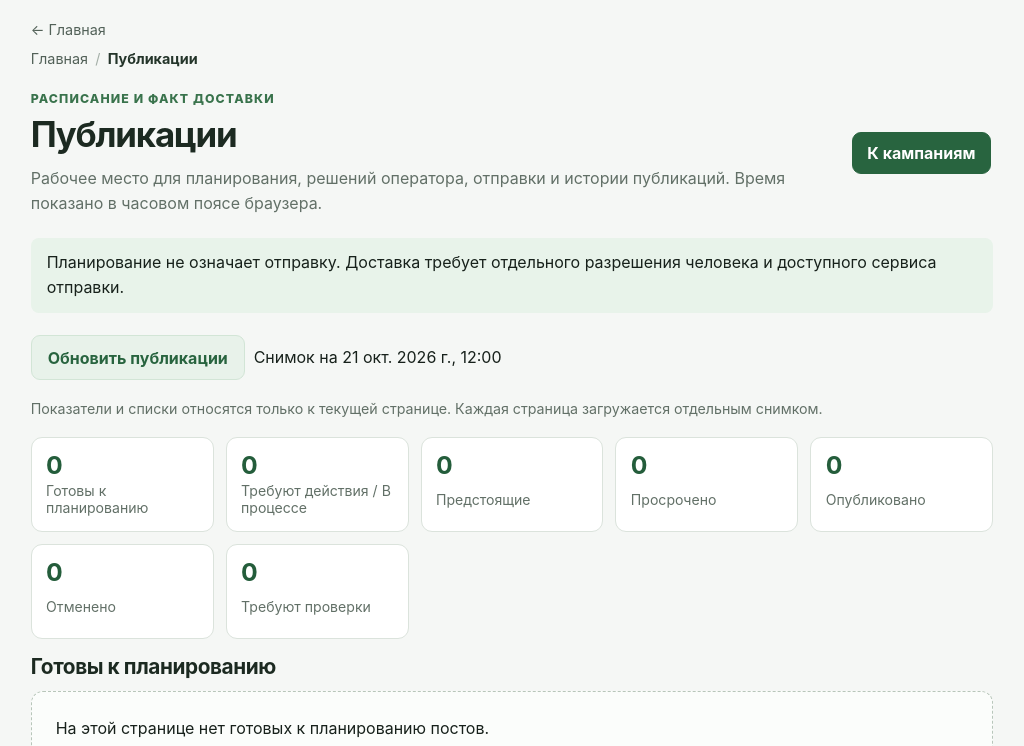
Test: snapshot failures and pagination › keeps a failed refresh as one visibly stale snapshot and disables mutations
Step 1. Click the button "Обновить публикации" → (138, 358), box [31,335,245,380]
(page scrolled)
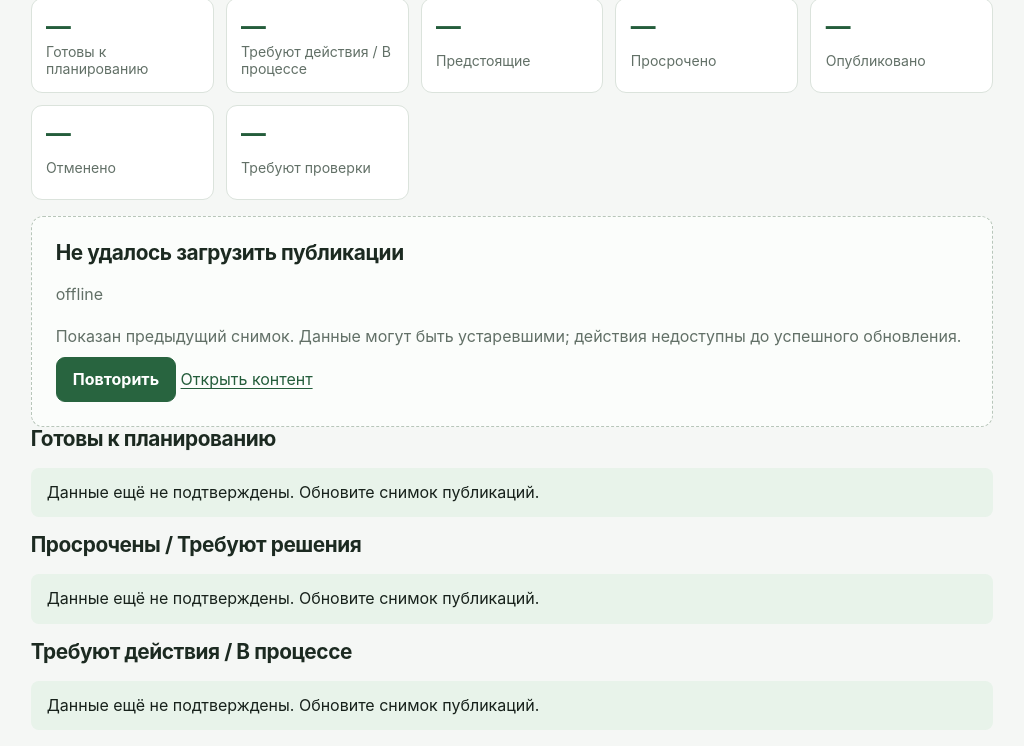
Now the message shows "Показан предыдущий снимок", box [56,326,961,346]
Step 2. Click the button "Повторить" → (116, 380), box [56,357,176,402]
(page scrolled)
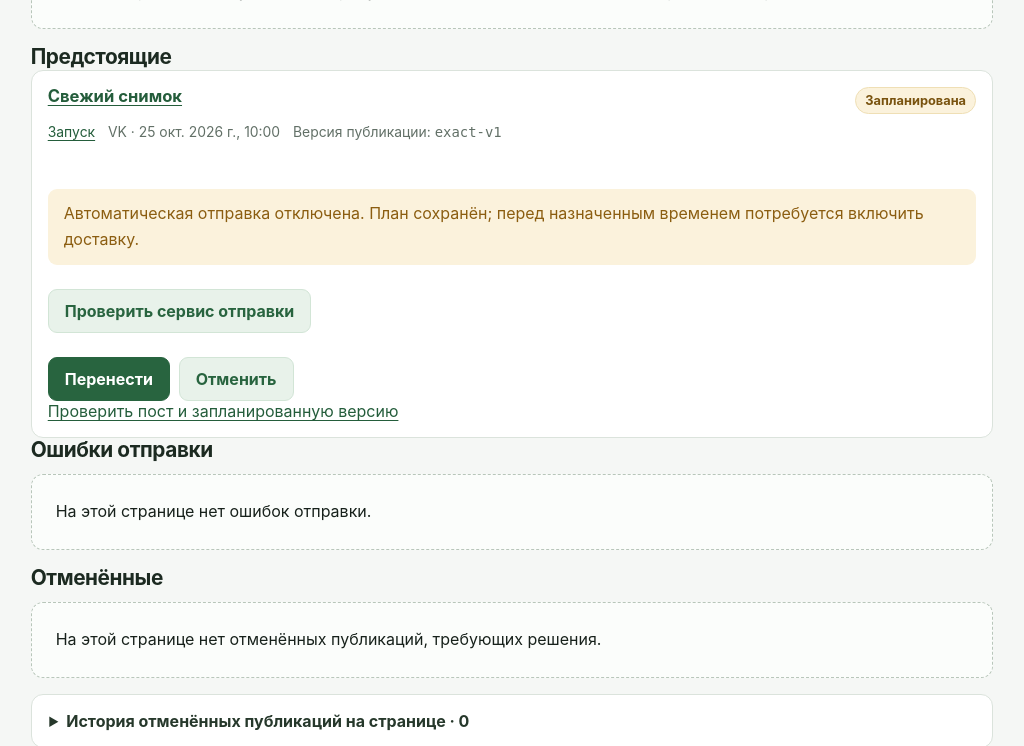
Now the link "Свежий снимок" is shown, box [48,86,182,106]
Now the button "Отменить" is enabled, box [179,357,294,401]
